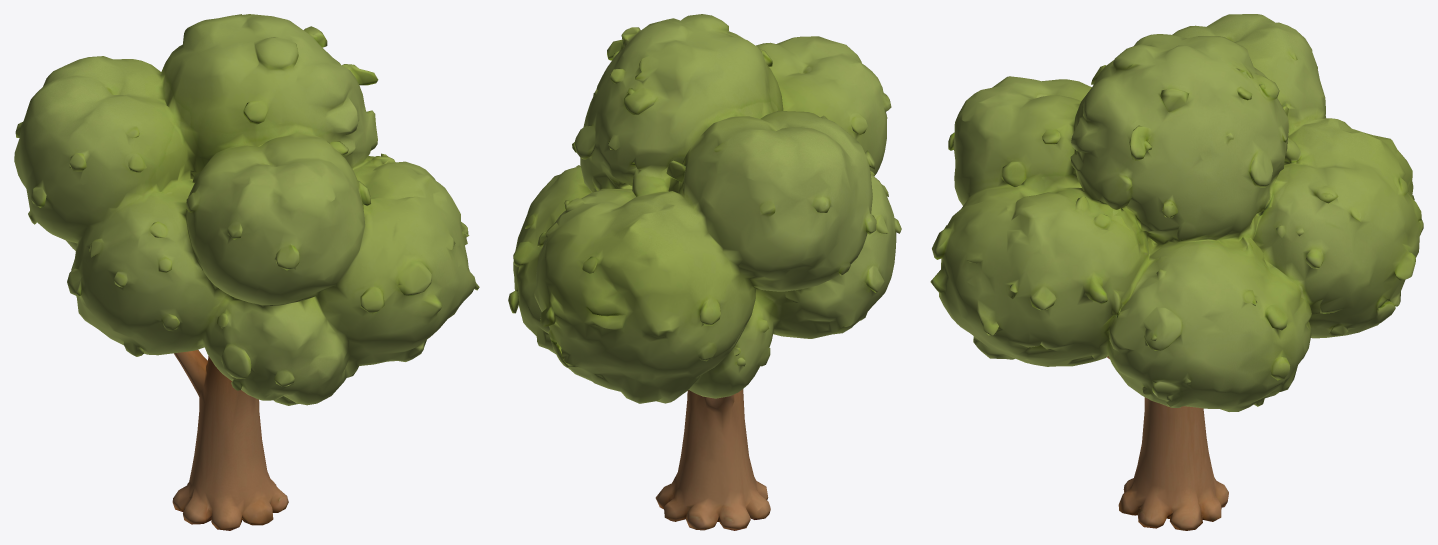
Rendered from tree.glb.
3 views of the same model, side by side, from view 1: azimuth 30°, elevation 25°; view 2: azimuth 150°, elevation 25°; view 3: azimuth 270°, elevation 25° (orthographic).
Visible parts, largest first — view 1: tripo_node_e9619bff-e74c-481f-9f93-4339298f1c62; view 2: tripo_node_e9619bff-e74c-481f-9f93-4339298f1c62; view 3: tripo_node_e9619bff-e74c-481f-9f93-4339298f1c62.
Boxes of the visible parts, x1,y1,x2,y2 form: tripo_node_e9619bff-e74c-481f-9f93-4339298f1c62: (14, 14, 479, 530); tripo_node_e9619bff-e74c-481f-9f93-4339298f1c62: (508, 14, 901, 530); tripo_node_e9619bff-e74c-481f-9f93-4339298f1c62: (930, 14, 1423, 530).
Bounding box in the file's own units: 0.7871 × 1 × 0.9332.
Materials: 1 (1 with a texture image).
